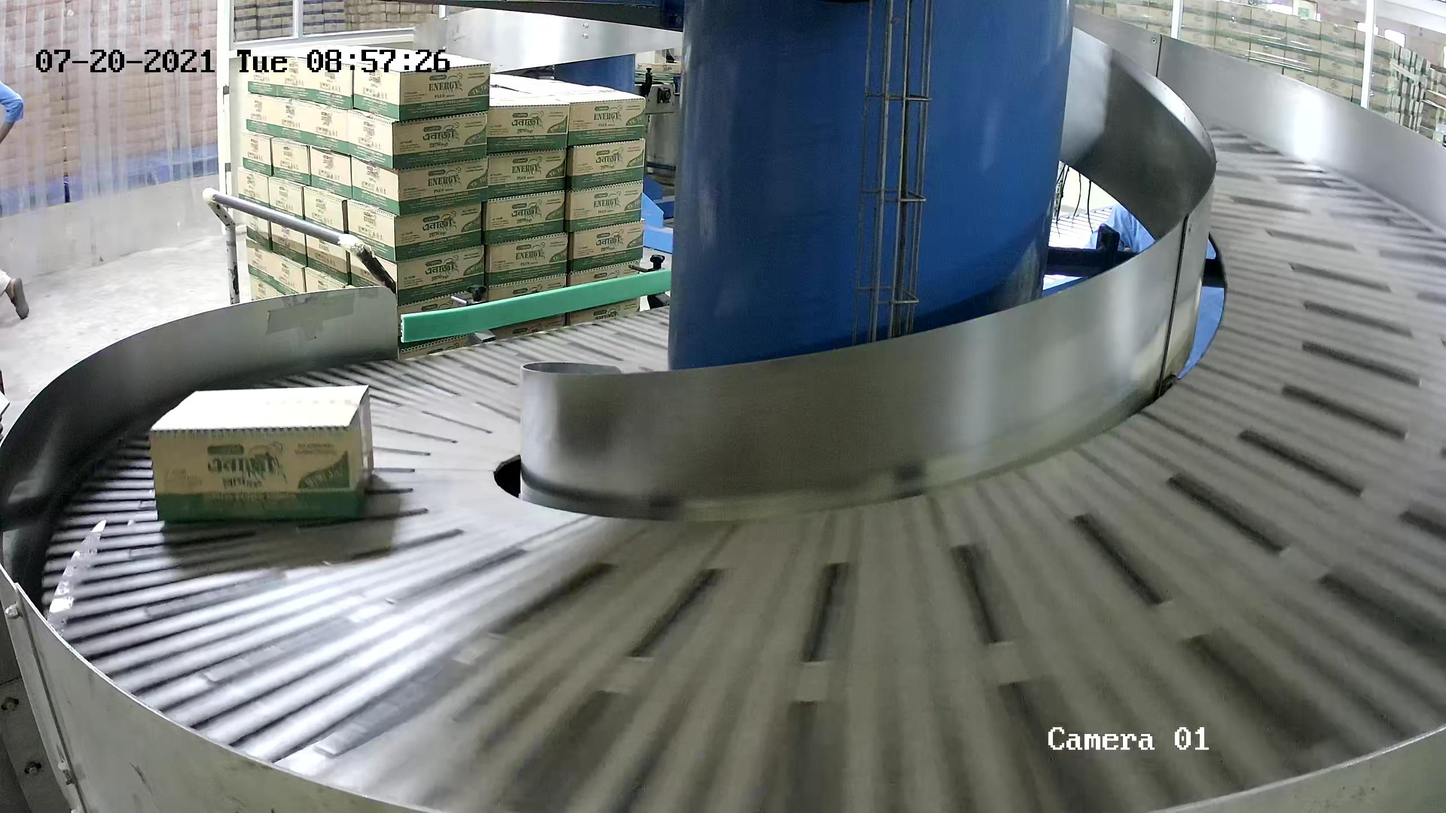Box: (148, 384, 376, 522)
